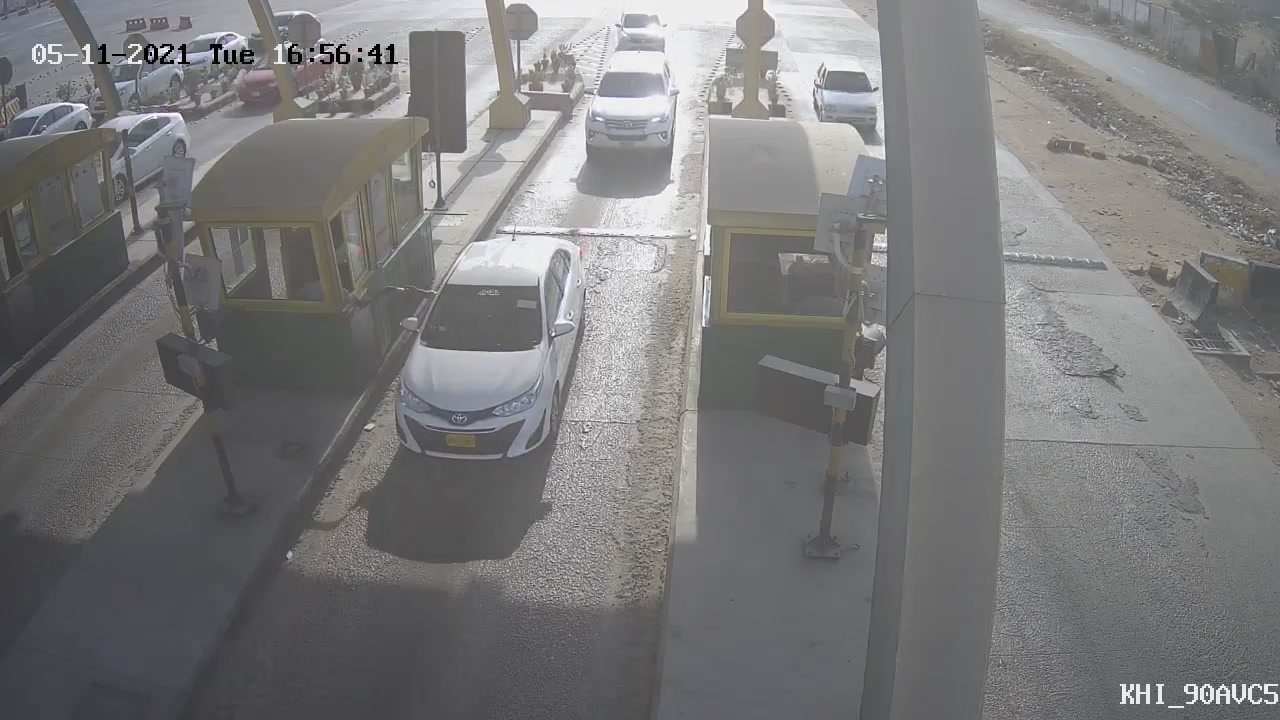F1: (376, 208, 611, 486), (560, 35, 696, 182)
